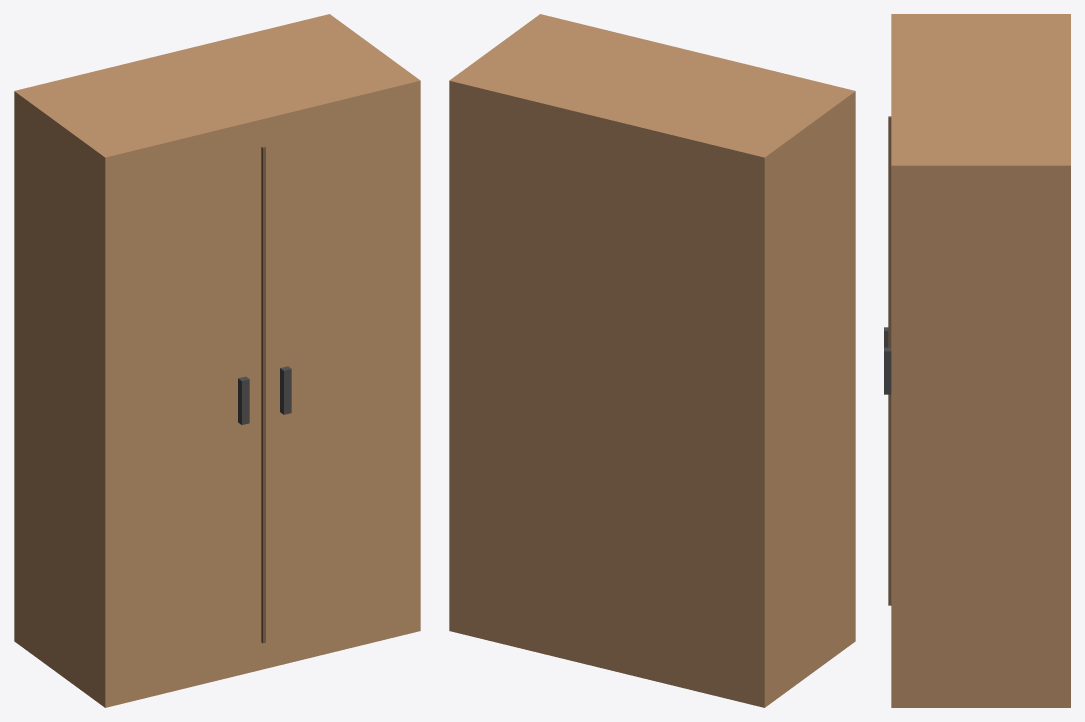
File: wardrobe.glb
3 renders of one model, left to right at view 1: azimuth 30°, elevation 25°; view 2: azimuth 150°, elevation 25°; view 3: azimuth 270°, elevation 25°, orthographic.
Parts seen in each view (by area): view 1: furniture; view 2: furniture; view 3: furniture.
Boxes of the visible parts, bbox=[...] form: furniture: bbox=[14, 14, 420, 707]; furniture: bbox=[449, 14, 855, 707]; furniture: bbox=[884, 14, 1070, 707].
Bounding box in the file's own units: 1.2 × 2 × 0.625.
